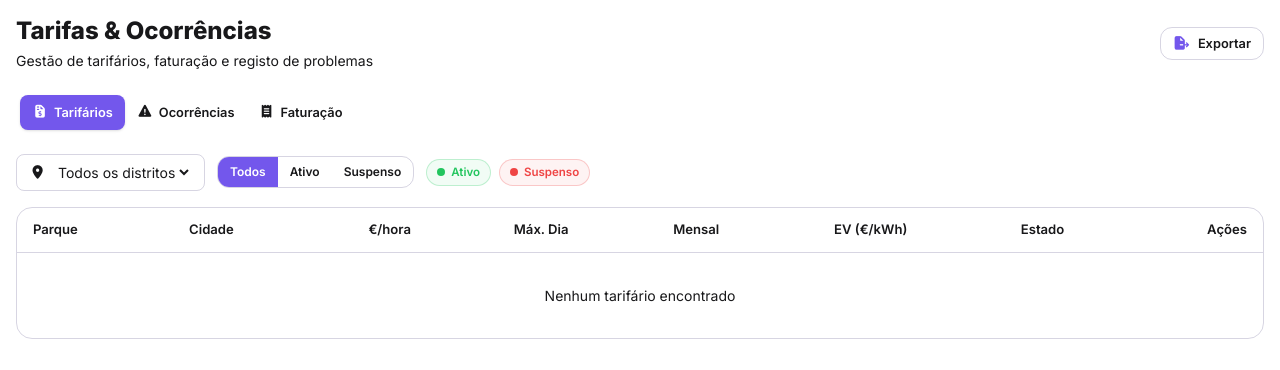
Scenario: TariffsIncidentsPage › enables billing tab and shows billing table
expect the heading "Tarifas & Ocorrências" is shown: met, box [16,16,272,45]
Click the tab "Faturação" at (300, 112), box [246,95,354,130]
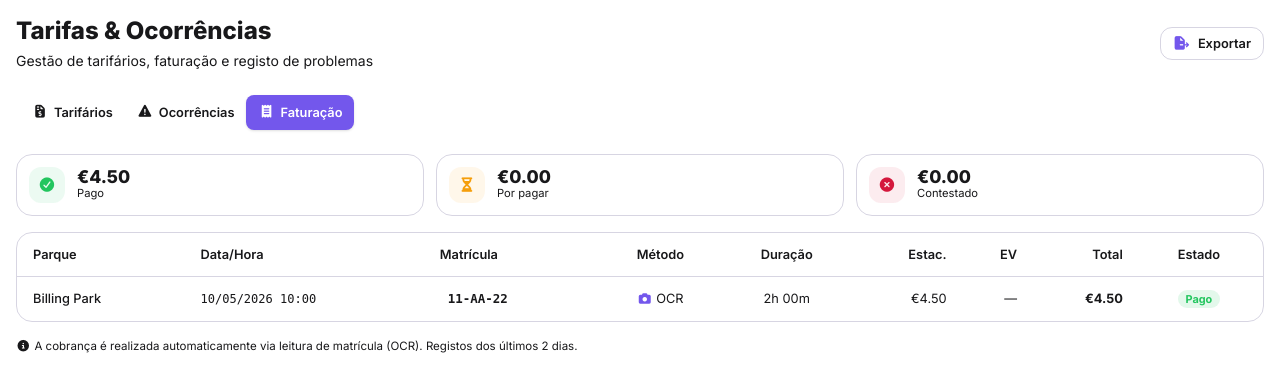
expect the text "Billing Park" is shown: met, box [17,277,188,321]
expect the text "11-AA-22" is shown: met, box [448,291,508,306]
